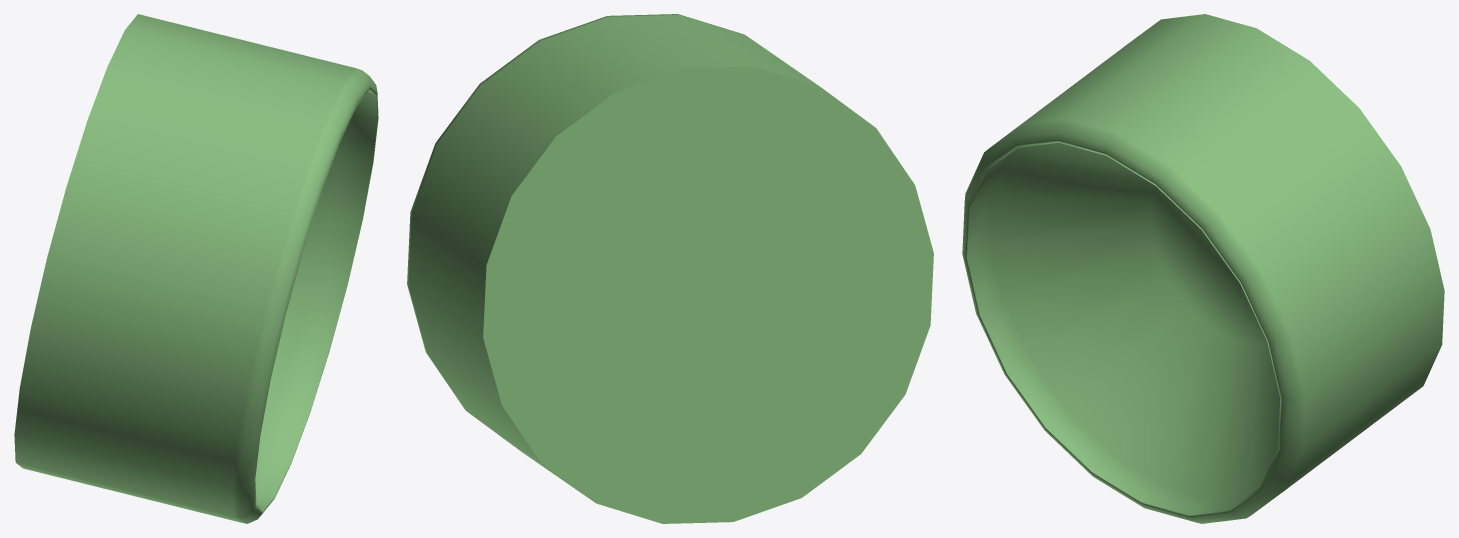
File: TR3_8shapes_Round_Classic_Metal.001 3.glb
The picture shows the model from 3 angles, left to right: view 1: azimuth 30°, elevation 25°; view 2: azimuth 150°, elevation 25°; view 3: azimuth 270°, elevation 25°; orthographic projection. The views are drawn at different scales.
Parts seen in each view (by area): view 1: TR3_8shapes_Round_Classic_Metal.001; view 2: TR3_8shapes_Round_Classic_Metal.001; view 3: TR3_8shapes_Round_Classic_Metal.001.
Boxes of the visible parts, x1,y1,x2,y2 form: TR3_8shapes_Round_Classic_Metal.001: [14, 14, 378, 523]; TR3_8shapes_Round_Classic_Metal.001: [407, 14, 933, 523]; TR3_8shapes_Round_Classic_Metal.001: [962, 14, 1444, 523].
Size of the model in its own units: 0.5972 by 0.6032 by 0.5949.
